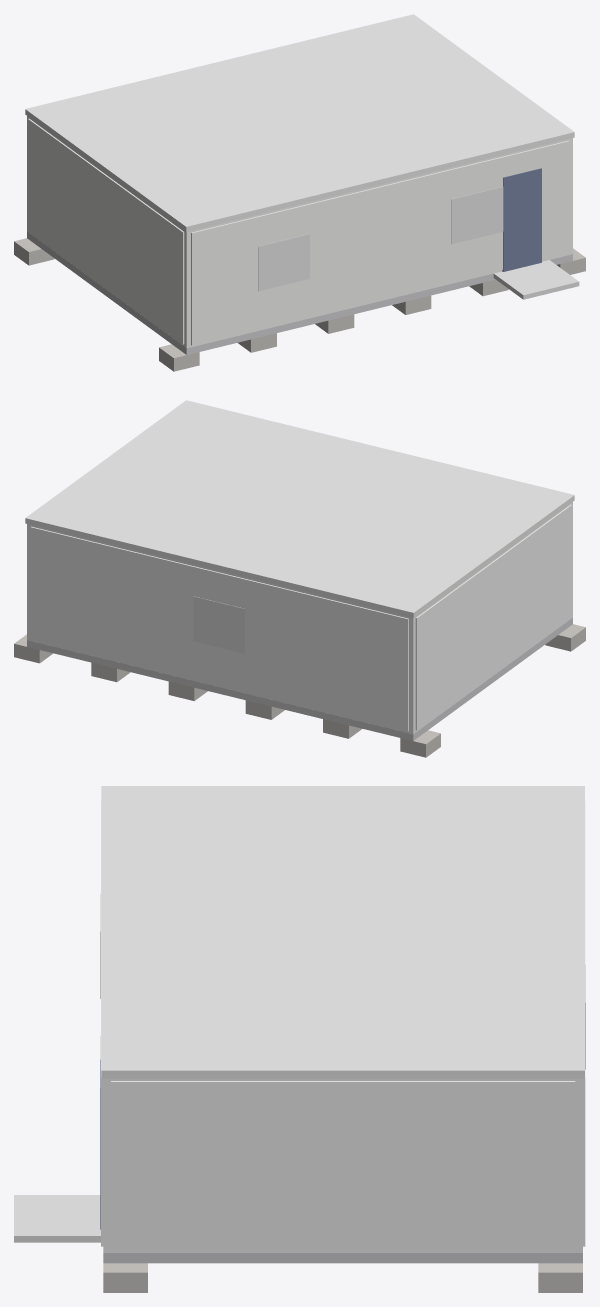
The model's file is Studio-30-Retirement-LOD2.glb.
The picture shows the model from 3 angles, top to bottom: view 1: azimuth 30°, elevation 25°; view 2: azimuth 150°, elevation 25°; view 3: azimuth 270°, elevation 25°; orthographic projection. The views are drawn at different scales.
Parts seen in each view (by area): view 1: RoofMain, ExteriorPanelsStandard, WindowsStandard, EntryDoor, FoundationBlocks, BaseFrame, ExteriorShell, AccessibilityRetirement; view 2: RoofMain, ExteriorPanelsStandard, BaseFrame, FoundationBlocks, ExteriorShell, WindowsStandard; view 3: RoofMain, ExteriorPanelsStandard, ExteriorShell, BaseFrame, AccessibilityRetirement, FoundationBlocks.
Boxes of the visible parts, bbox=[...] form: RoofMain: bbox=[25, 14, 574, 232]; ExteriorPanelsStandard: bbox=[28, 118, 569, 345]; WindowsStandard: bbox=[258, 187, 503, 291]; EntryDoor: bbox=[502, 168, 541, 271]; FoundationBlocks: bbox=[14, 238, 585, 371]; BaseFrame: bbox=[27, 232, 572, 354]; ExteriorShell: bbox=[27, 116, 572, 348]; AccessibilityRetirement: bbox=[493, 260, 579, 299]; RoofMain: bbox=[25, 400, 574, 618]; ExteriorPanelsStandard: bbox=[30, 504, 571, 731]; BaseFrame: bbox=[27, 618, 572, 740]; FoundationBlocks: bbox=[14, 624, 585, 757]; ExteriorShell: bbox=[27, 502, 572, 734]; WindowsStandard: bbox=[193, 596, 244, 653]; RoofMain: bbox=[101, 786, 584, 1078]; ExteriorPanelsStandard: bbox=[101, 801, 585, 1250]; ExteriorShell: bbox=[103, 1078, 582, 1252]; BaseFrame: bbox=[103, 1253, 582, 1263]; AccessibilityRetirement: bbox=[14, 1195, 100, 1242]; FoundationBlocks: bbox=[103, 1263, 582, 1292].
Size of the model in its own units: 9.6 by 3.17 by 7.69.
